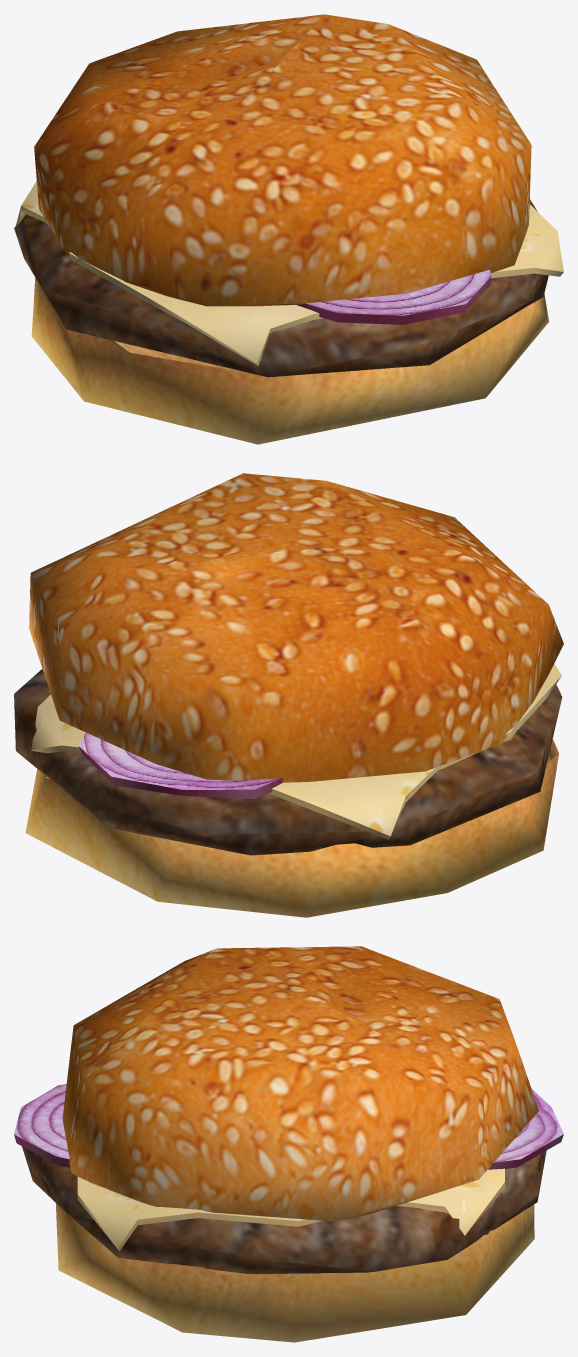
Rendered from burger_starburger.fbx.
3 renders of one model, top to bottom at view 1: azimuth 30°, elevation 25°; view 2: azimuth 150°, elevation 25°; view 3: azimuth 270°, elevation 25°, orthographic. The views are drawn at different scales.
Parts seen in each view (by area): view 1: burger_bun_01_LOD00, burger_bun_04_LOD00, chopped_steak__LOD00, cheese_LOD00, onion_LOD00.001; view 2: burger_bun_01_LOD00, burger_bun_04_LOD00, chopped_steak__LOD00, cheese_LOD00, onion_LOD00; view 3: burger_bun_01_LOD00, burger_bun_04_LOD00, chopped_steak__LOD00, cheese_LOD00, onion_LOD00.001, onion_LOD00.
Part boxes in pixels (box(x1,y1,x2,y2)): burger_bun_01_LOD00: box(34, 14, 531, 306); burger_bun_04_LOD00: box(31, 278, 548, 444); chopped_steak__LOD00: box(14, 199, 548, 377); cheese_LOD00: box(16, 181, 563, 365); onion_LOD00.001: box(297, 269, 491, 324); burger_bun_01_LOD00: box(29, 473, 563, 782); burger_bun_04_LOD00: box(25, 739, 558, 917); chopped_steak__LOD00: box(14, 669, 562, 855); cheese_LOD00: box(31, 664, 561, 839); onion_LOD00: box(78, 732, 282, 799); burger_bun_01_LOD00: box(62, 946, 538, 1221); burger_bun_04_LOD00: box(55, 1203, 534, 1342); chopped_steak__LOD00: box(22, 1146, 546, 1273); cheese_LOD00: box(77, 1168, 504, 1250); onion_LOD00.001: box(14, 1084, 70, 1167); onion_LOD00: box(488, 1088, 563, 1169).
Bounding box in the file's own units: 14.41 × 7.49 × 15.34.
